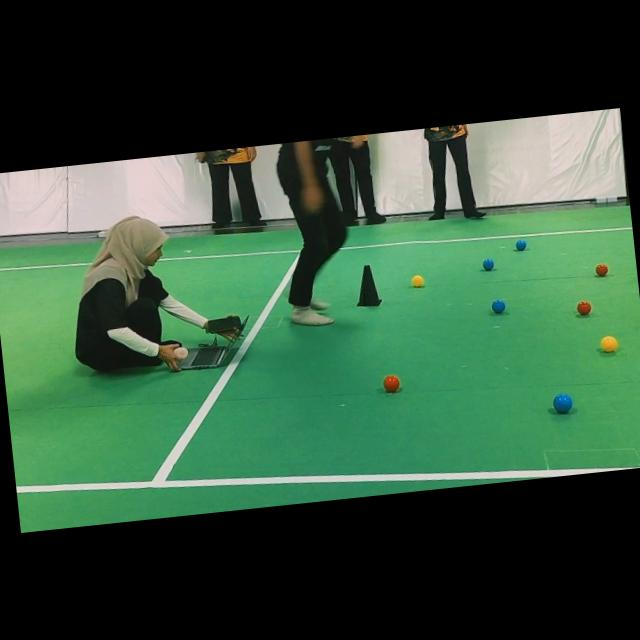ball: (383, 374, 400, 392), (600, 335, 618, 352), (576, 300, 592, 315), (492, 299, 506, 313), (595, 263, 608, 276), (411, 274, 424, 287), (482, 258, 494, 270), (516, 240, 526, 250)
goal: (251, 144, 292, 220)
